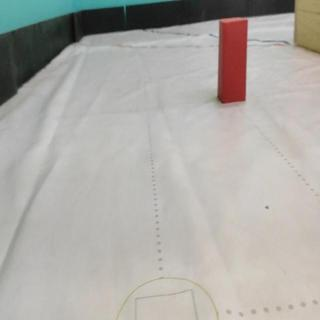redbox: (217, 16, 249, 106)
